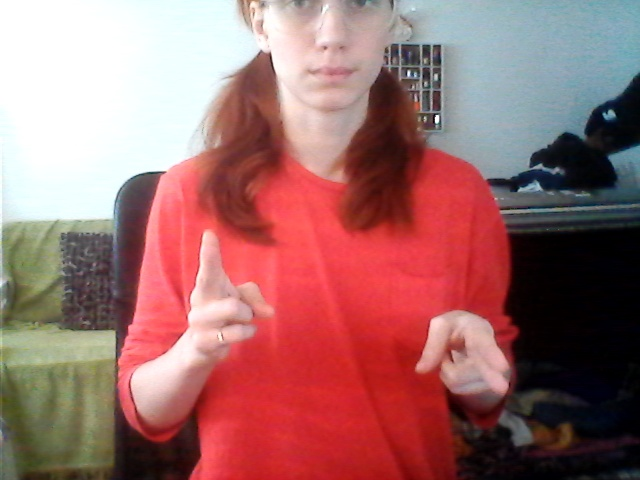ako: (180, 226, 510, 411)
